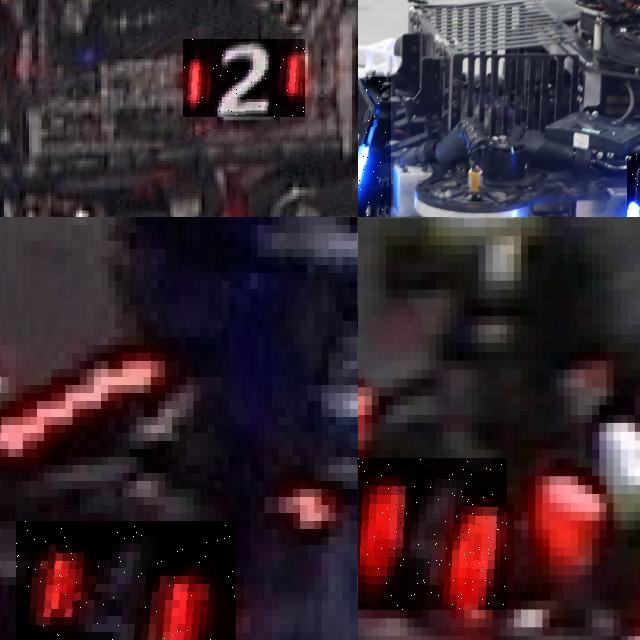Bs: (358, 77, 391, 217)
R2: (183, 39, 305, 117)
R4: (15, 521, 236, 640), (358, 458, 506, 609)
